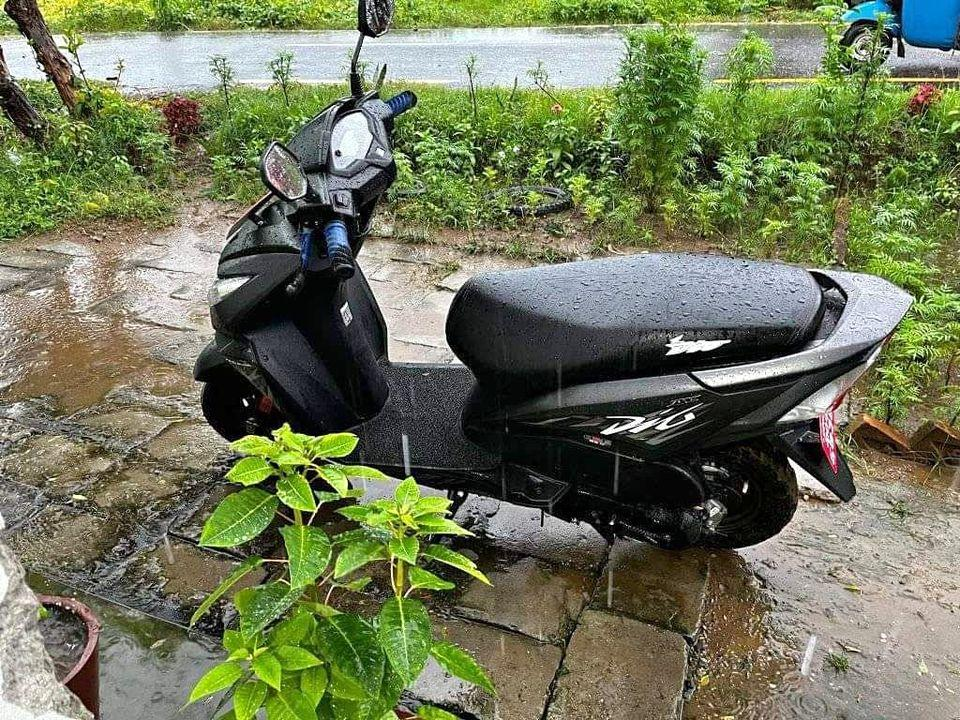scooter: (189, 63, 897, 567)
